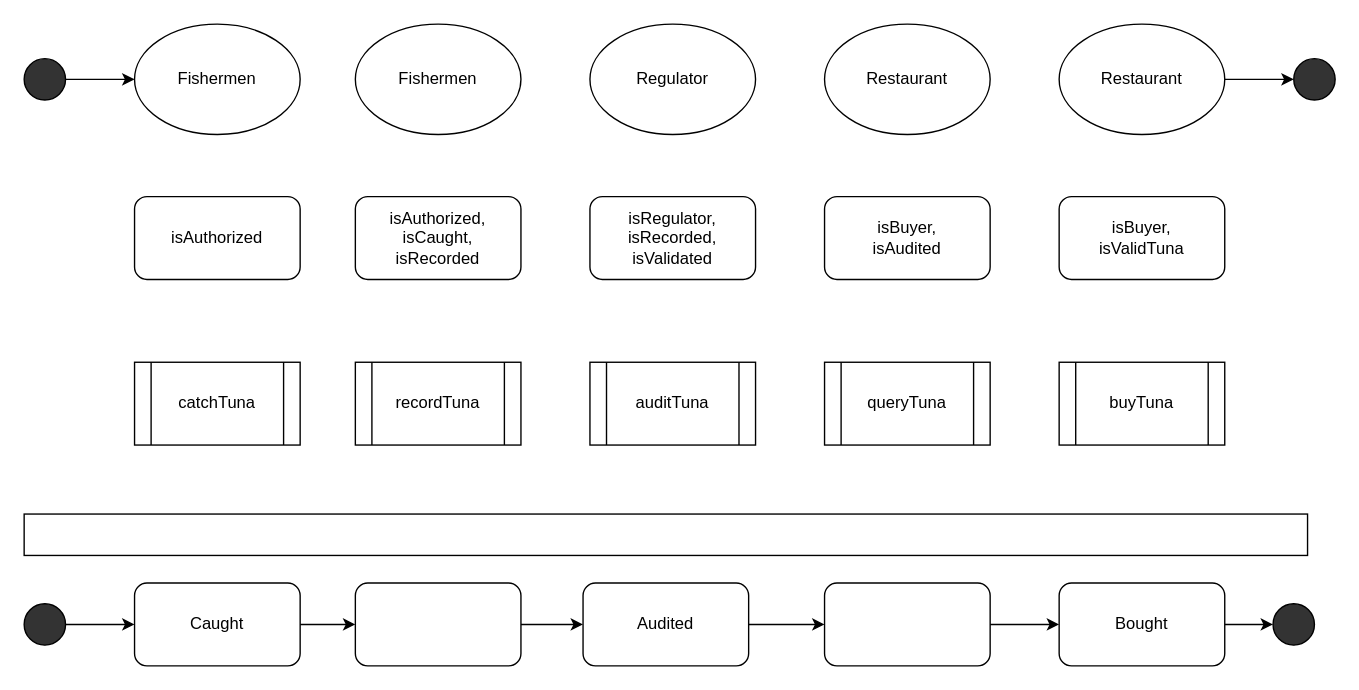
This 1359x690 diagram has some shape labels left out. Each missing label, with the centre of its shape:
Queried: (x=906, y=624)
Recorded: (x=437, y=624)
Tuna Status: (x=665, y=534)
